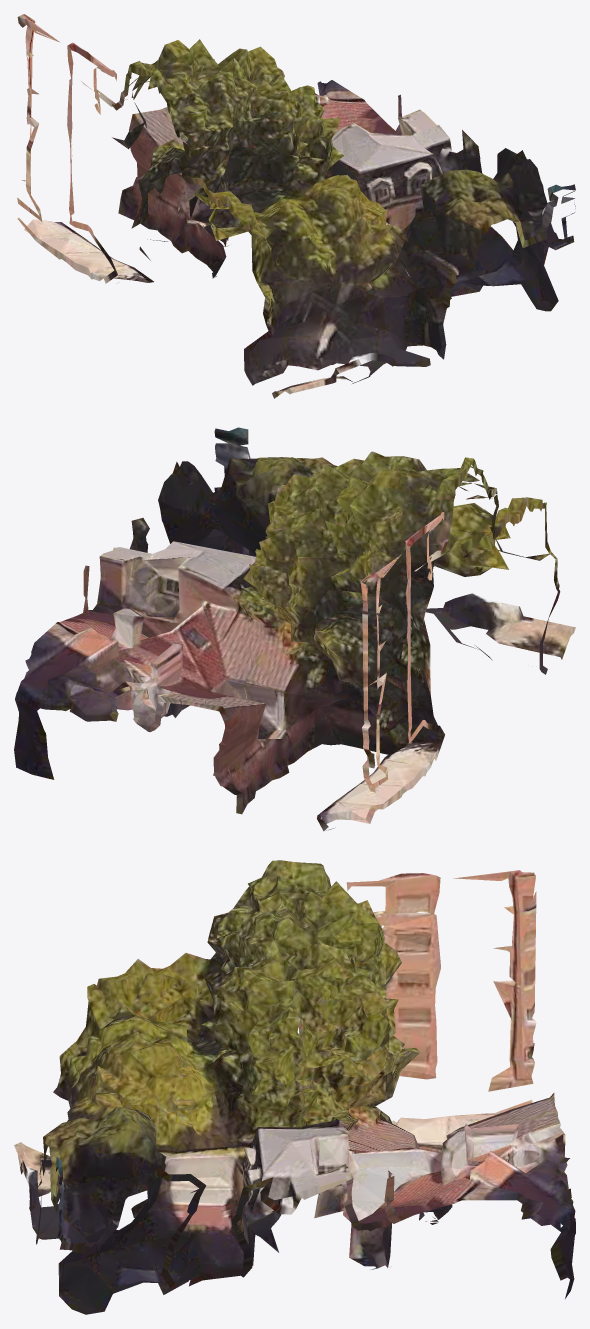
3 renders of one model, top to bottom at view 1: azimuth 30°, elevation 25°; view 2: azimuth 150°, elevation 25°; view 3: azimuth 270°, elevation 25°, orthographic. The views are drawn at different scales.
Visible parts, largest first — view 1: Mesh_0; view 2: Mesh_0; view 3: Mesh_0.
Part boxes in pixels (x1,y1,x2,y2): Mesh_0: (17,14,575,398); Mesh_0: (14,427,575,831); Mesh_0: (14,860,575,1314).
Size of the model in its own units: 33.77 by 23.77 by 41.14.
Materials: 1 (1 with a texture image).
